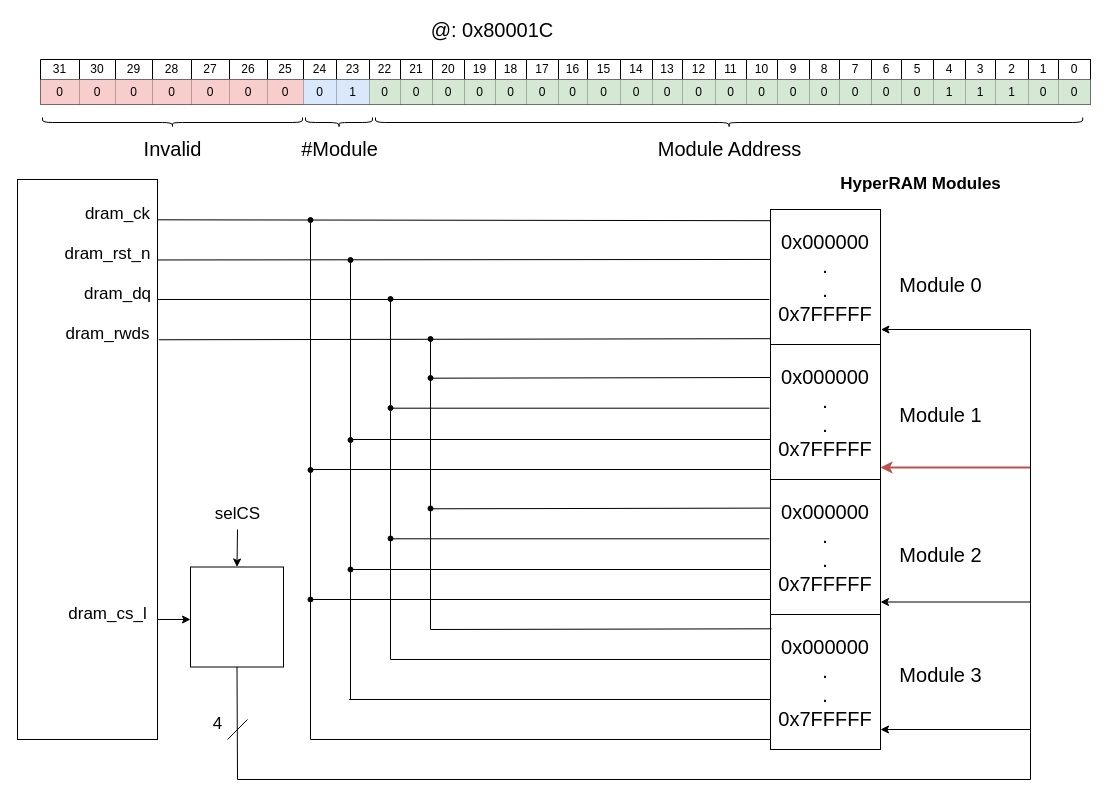
The diagram is 1108 pixels wide and 798 high, and some of its shapes have lost their labels. The box of each missing label's shape, as (x1, y1, x2, y2) in pixels:
Chip Selector: (190, 566, 284, 667)
HyperRAM Controller: (16, 178, 158, 740)
